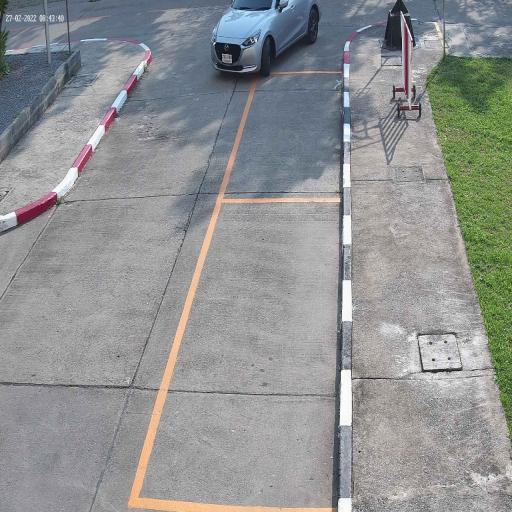car: (209, 0, 324, 78)
